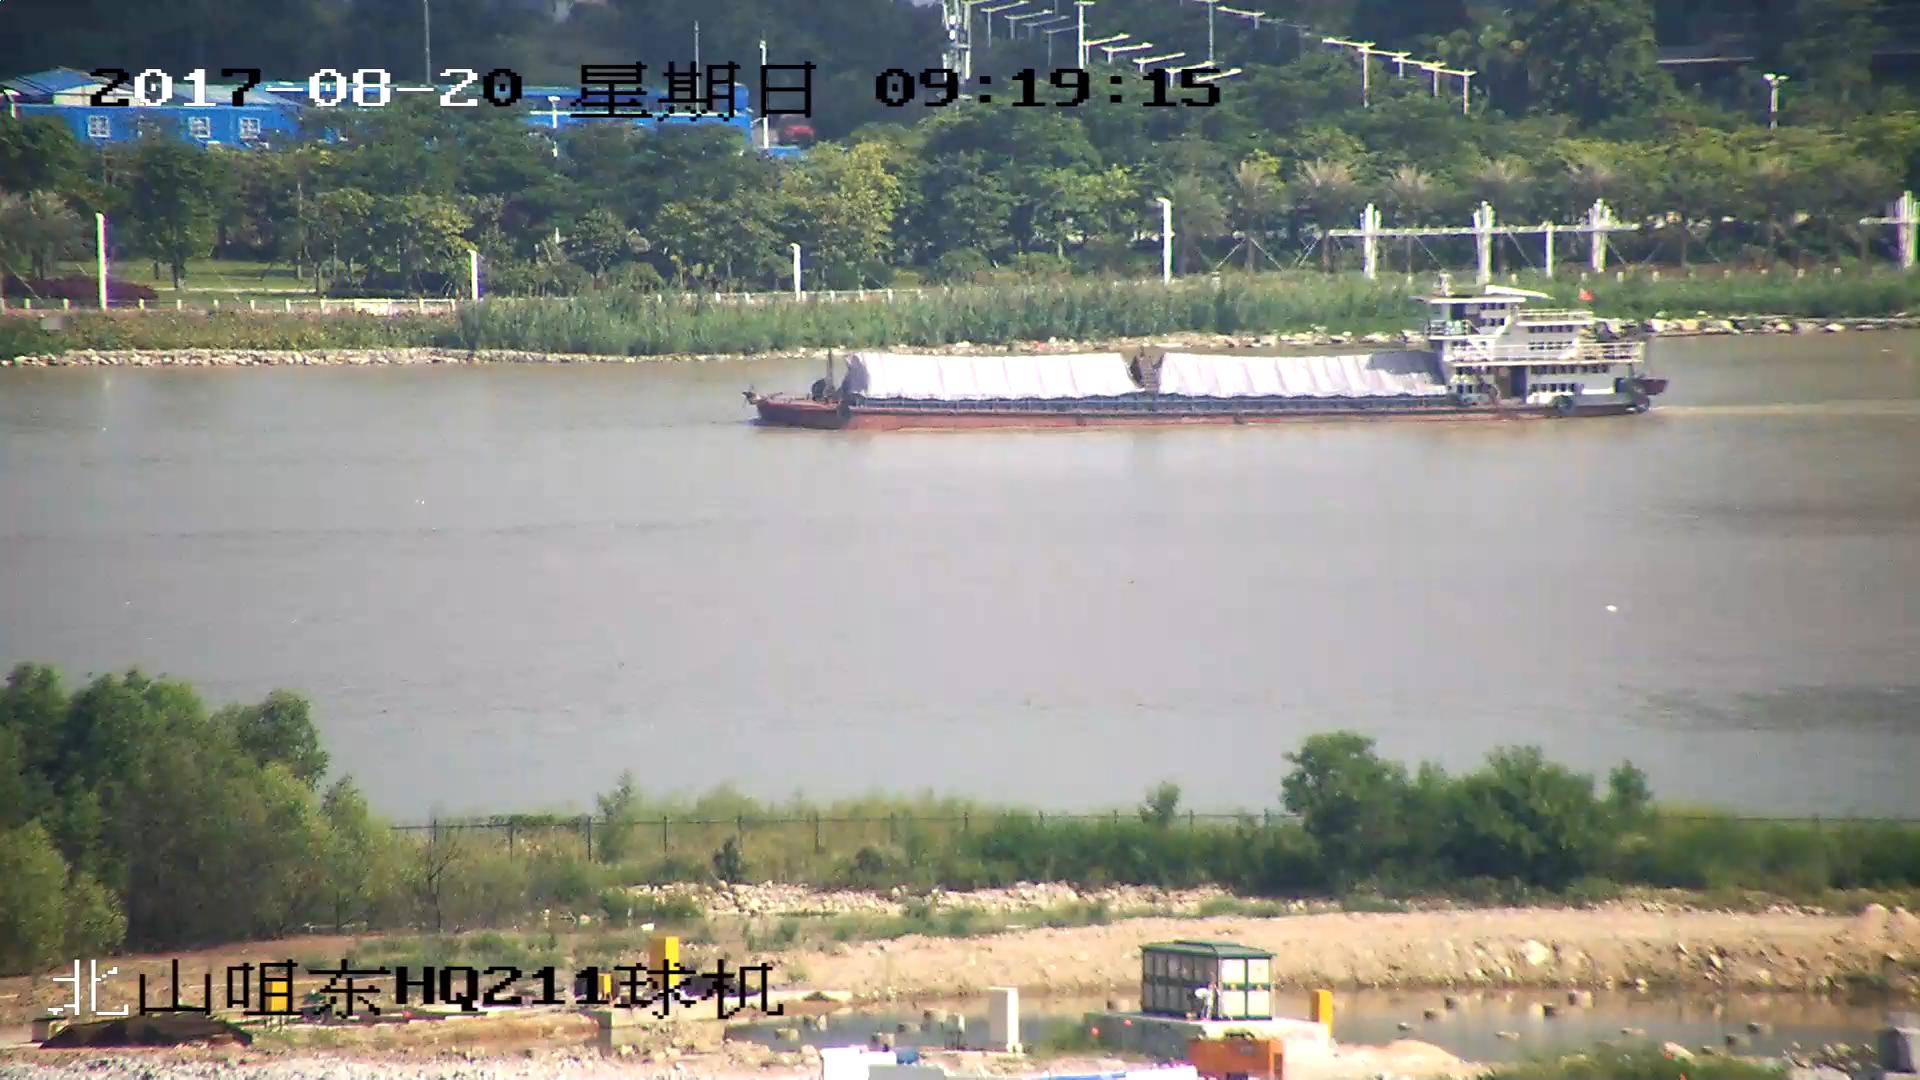general cargo ship: (743, 280, 1671, 434)
